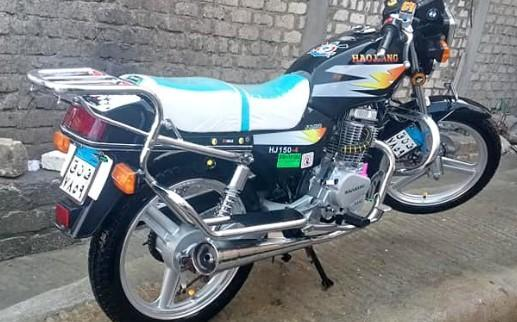License Plate: (52, 141, 107, 204), (380, 121, 426, 157)
